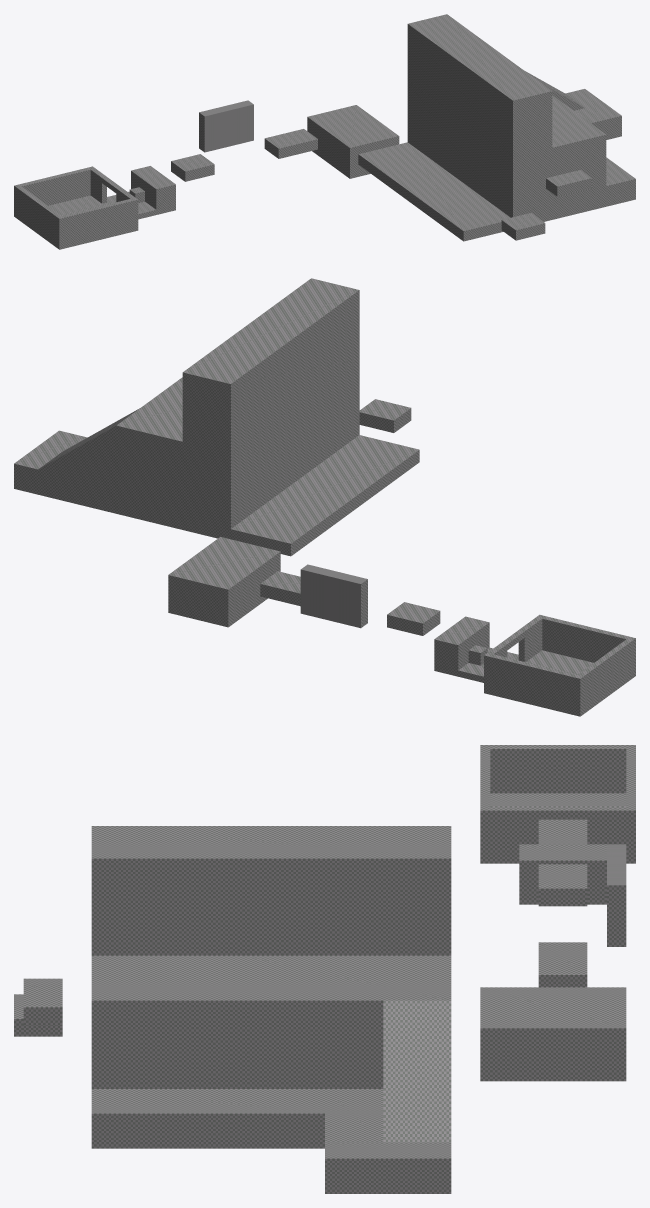
3 renders of one model, top to bottom at view 1: azimuth 30°, elevation 25°; view 2: azimuth 150°, elevation 25°; view 3: azimuth 270°, elevation 25°, orthographic. The views are drawn at different scales.
Parts seen in each view (by area): view 1: Block_14_mesh, Block_17_mesh, Block_13_mesh, Block_12_mesh, Block_4_mesh, Block_11_mesh, Block_6_mesh, Block_8_mesh, Block_2_mesh, block0_mesh, Block_5_mesh, Block_19_mesh (+7 smaller); view 2: Block_14_mesh, Block_17_mesh, Block_13_mesh, Block_12_mesh, Block_18_mesh, Block_6_mesh, Block_4_mesh, Block_11_mesh, Block_2_mesh, Block_8_mesh, block0_mesh, Block_19_mesh (+5 smaller); view 3: Block_17_mesh, Block_14_mesh, Block_21_mesh, Block_12_mesh, Block_18_mesh, Block_8_mesh, Block_19_mesh, block0_mesh, Block_20_mesh, Block_2_mesh, Block_5_mesh, Block_10_mesh (+8 smaller).
Boxes of the visible parts, x1,y1,x2,y2 form: Block_14_mesh: (407, 81, 606, 221); Block_17_mesh: (407, 14, 552, 157); Block_13_mesh: (358, 142, 510, 241); Block_12_mesh: (307, 105, 399, 178); Block_4_mesh: (199, 100, 253, 152); Block_11_mesh: (62, 197, 138, 243); Block_6_mesh: (14, 166, 95, 213); Block_8_mesh: (17, 186, 64, 244); Block_2_mesh: (131, 166, 175, 209); block0_mesh: (14, 195, 138, 249); Block_5_mesh: (264, 129, 317, 158); Block_19_mesh: (565, 89, 621, 139); Block_14_mesh: (116, 359, 359, 539); Block_17_mesh: (182, 278, 359, 453); Block_13_mesh: (231, 435, 419, 556); Block_12_mesh: (168, 537, 280, 627); Block_18_mesh: (38, 408, 139, 513); Block_6_mesh: (484, 653, 583, 710); Block_4_mesh: (300, 564, 367, 628); Block_11_mesh: (536, 614, 629, 662); Block_2_mesh: (434, 616, 489, 670); Block_8_mesh: (578, 637, 635, 707); block0_mesh: (484, 650, 635, 716); Block_19_mesh: (14, 430, 82, 494); Block_17_mesh: (91, 826, 451, 955); Block_14_mesh: (91, 955, 451, 1088); Block_21_mesh: (91, 1089, 324, 1148); Block_12_mesh: (480, 987, 626, 1081); Block_18_mesh: (383, 1000, 451, 1142); Block_8_mesh: (480, 745, 626, 793); Block_19_mesh: (325, 1142, 451, 1193); block0_mesh: (480, 793, 635, 863); Block_20_mesh: (325, 1089, 383, 1142); Block_2_mesh: (519, 844, 606, 895); Block_5_mesh: (538, 942, 587, 987); Block_10_mesh: (490, 806, 538, 854).
Size of the model in its own units: 105 by 29 by 64.
1 material, 1 textured.
